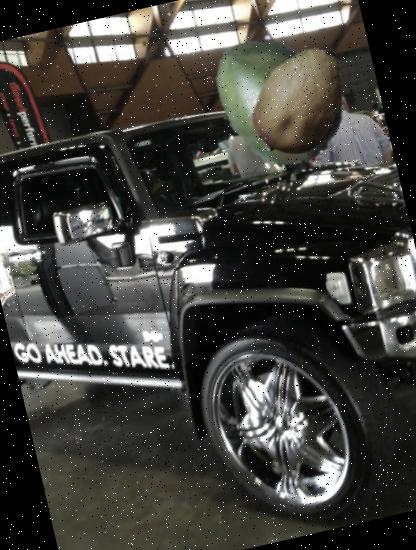Mango: (195, 15, 361, 180)
Papaya: (233, 33, 369, 169)
